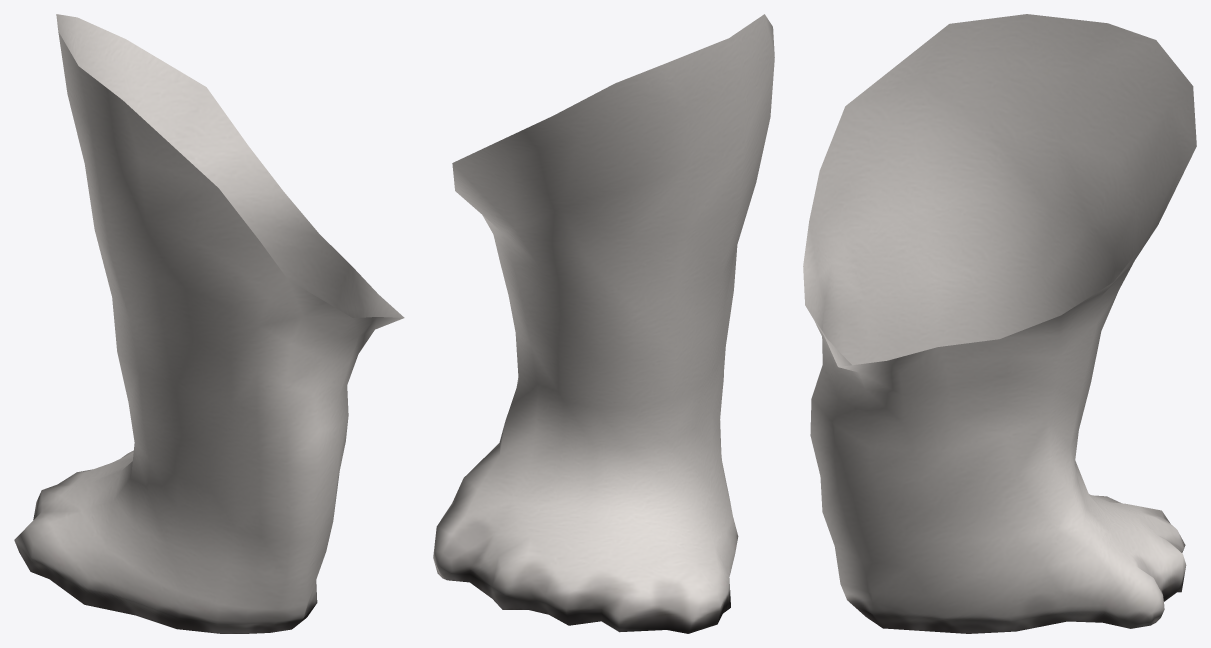
Rendered from rF_leftleg.obj.
3 renders of one model, left to right at view 1: azimuth 30°, elevation 25°; view 2: azimuth 150°, elevation 25°; view 3: azimuth 270°, elevation 25°, orthographic. The views are drawn at different scales.
Parts seen in each view (by area): view 1: Polar_Bear.001; view 2: Polar_Bear.001; view 3: Polar_Bear.001.
Boxes of the visible parts, <box> form: Polar_Bear.001: <box>14,14,404,633</box>; Polar_Bear.001: <box>433,14,774,633</box>; Polar_Bear.001: <box>803,14,1196,633</box>.
Bounding box in the file's own units: 0.4531 × 0.9324 × 0.6136.
1 material, 1 textured.
